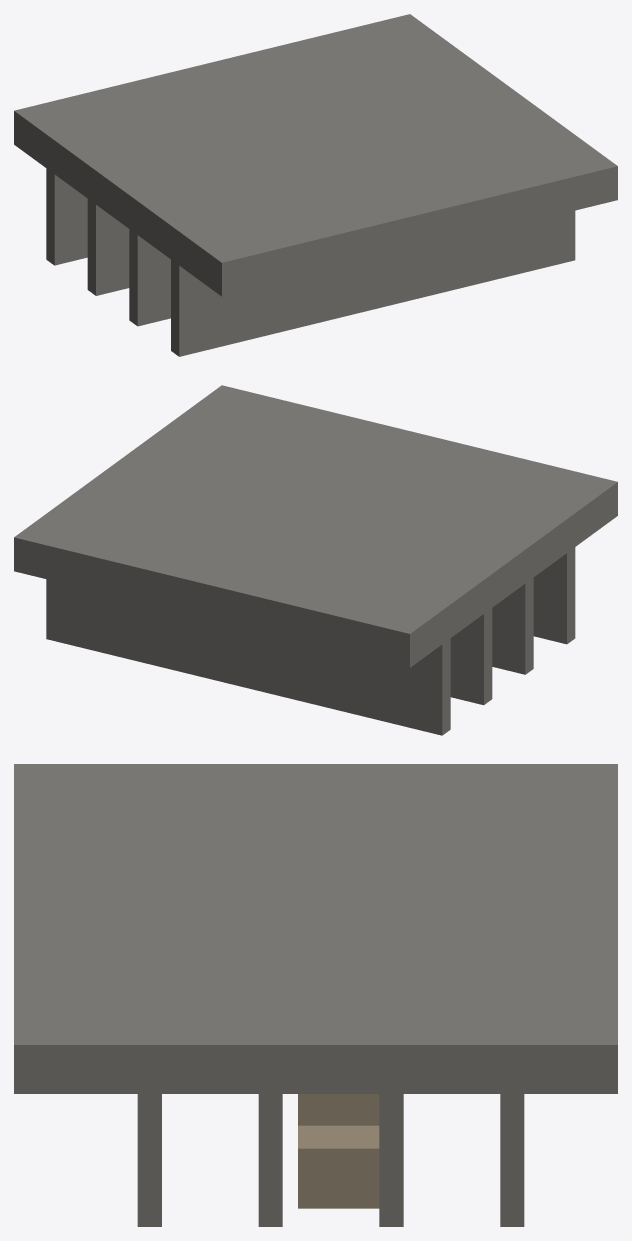
File: shelf_supermarket_loot.glb
The picture shows the model from 3 angles, top to bottom: view 1: azimuth 30°, elevation 25°; view 2: azimuth 150°, elevation 25°; view 3: azimuth 270°, elevation 25°; orthographic projection. The views are drawn at different scales.
Visible parts, largest first — view 1: world; view 2: world; view 3: world.
Boxes of the visible parts, x1,y1,x2,y2 form: world: (14, 14, 617, 356); world: (14, 385, 617, 735); world: (14, 764, 617, 1226).
Bounding box in the file's own units: 2.2 × 0.665 × 2.
